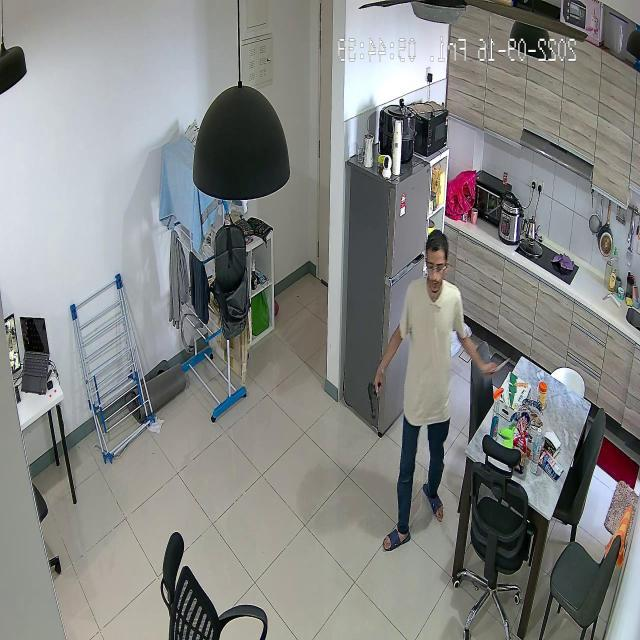Gun: (357, 373, 395, 436)
Knife: (472, 348, 512, 378)
